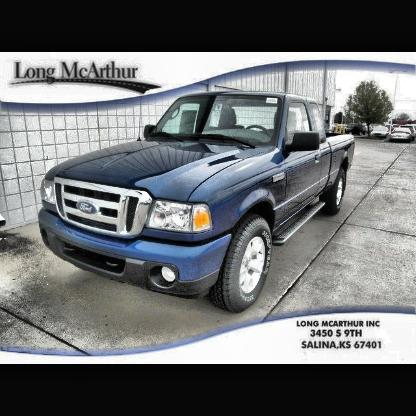Ford Ranger SuperCab 2011: (39, 94, 357, 315)
